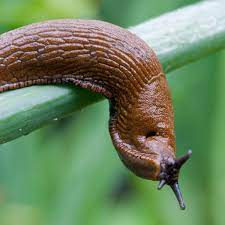slug: (1, 20, 188, 194)
